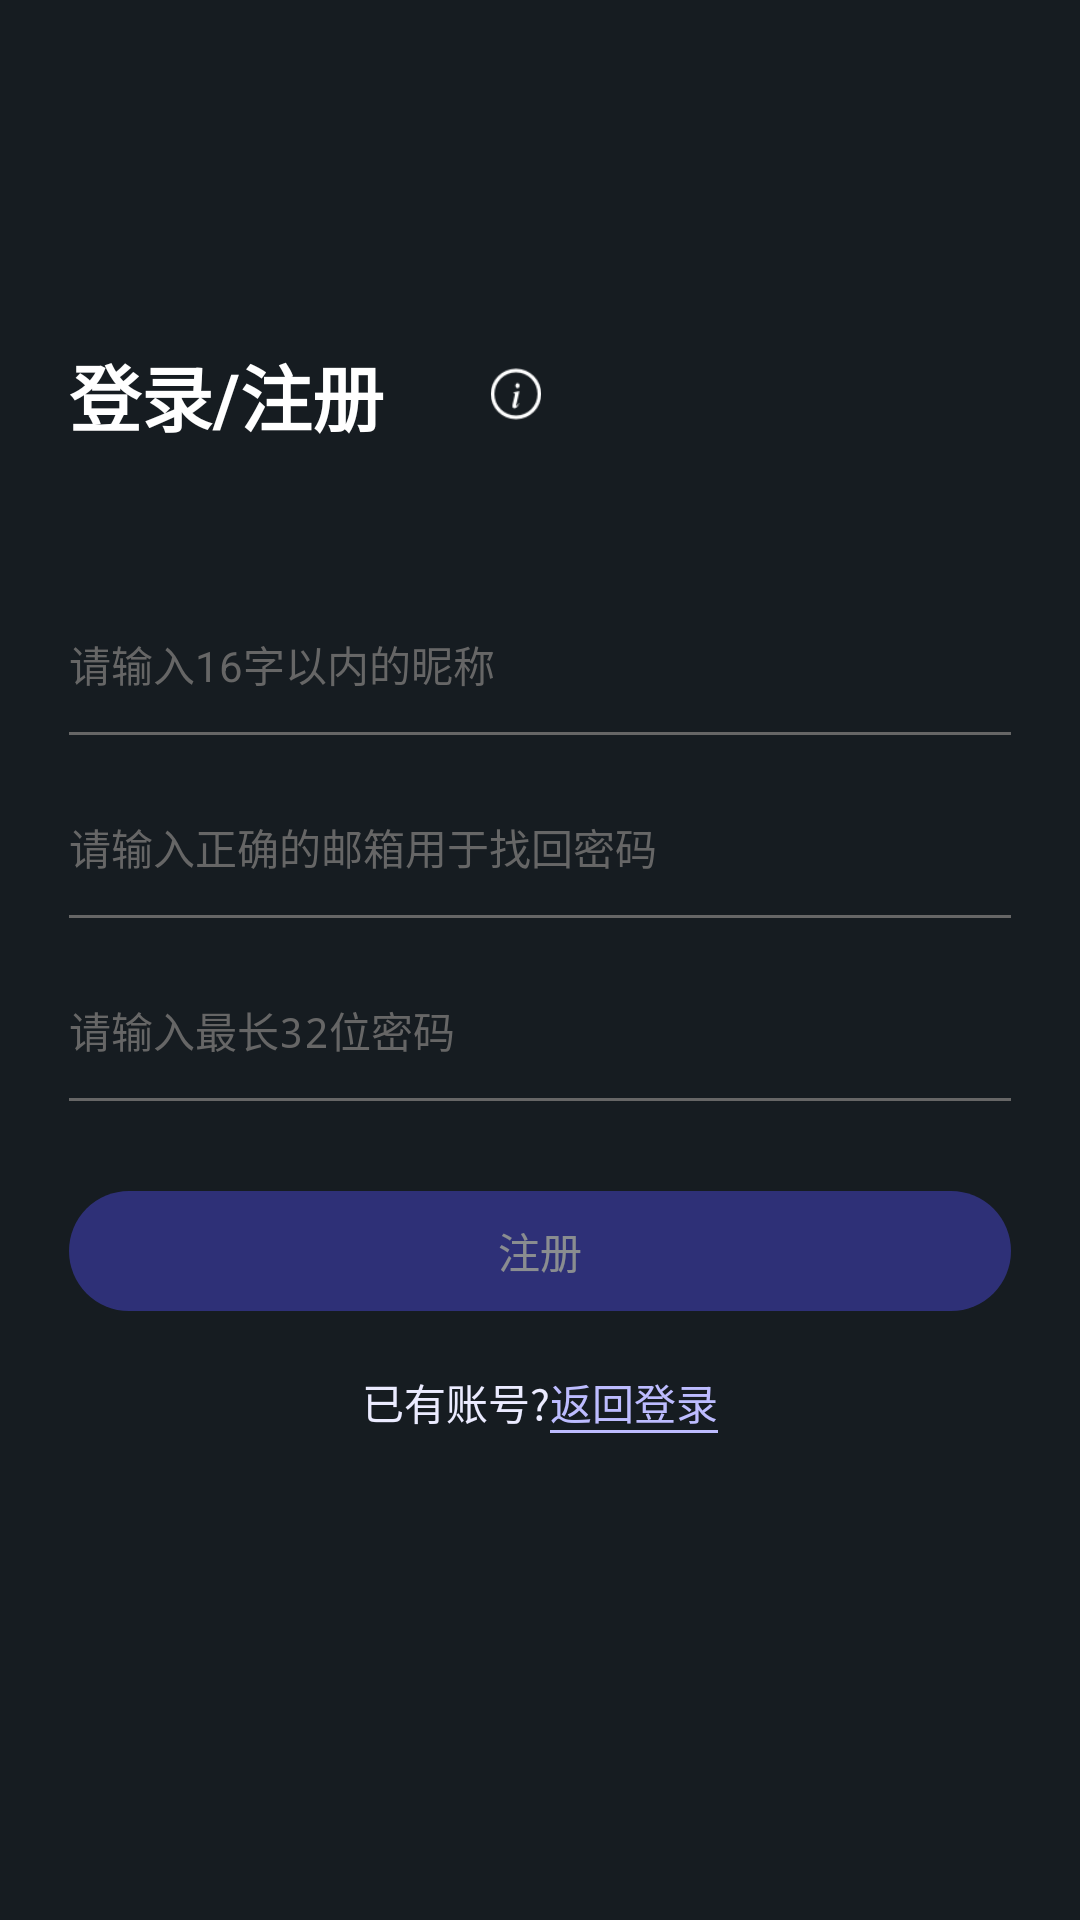

Where icons sit on this 1080w x 1920h app screen, as (x1, y1, x2, y2):
tishi: (491, 368, 541, 420)
